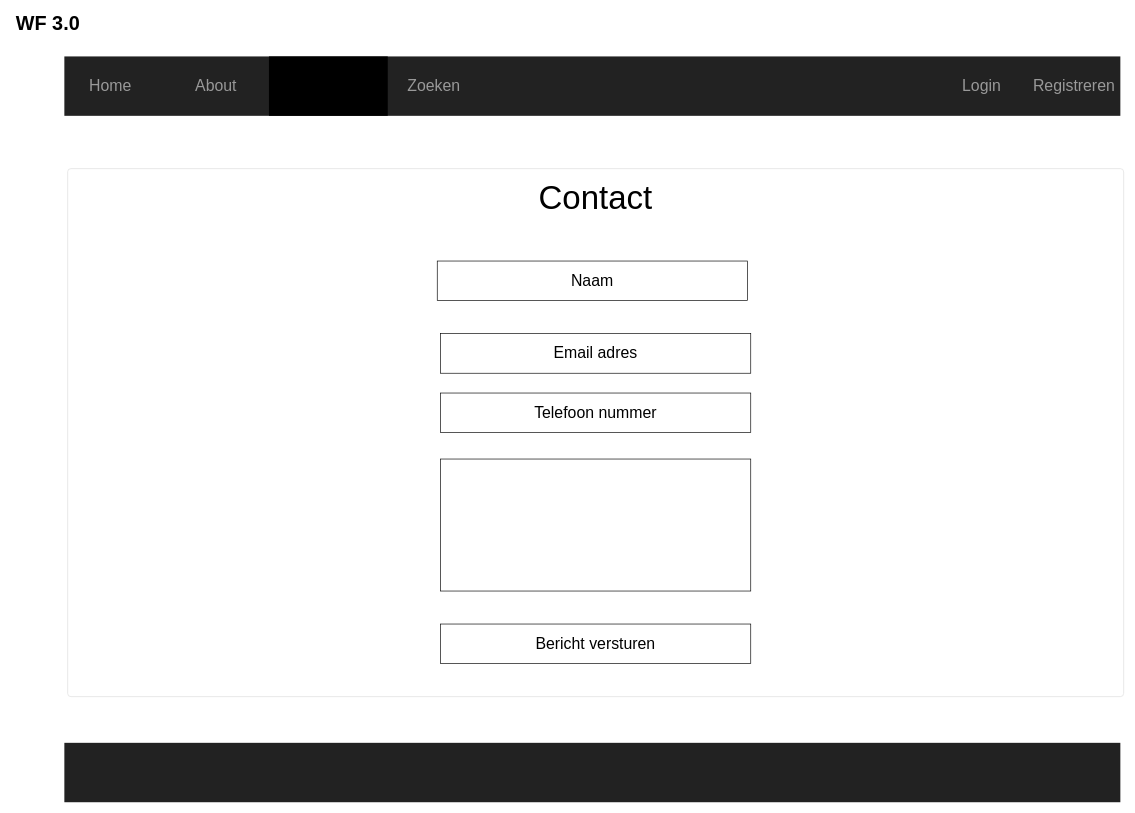
Image size: 1135x813. Some labels were removed from this diagram. Each missing label, with the box of its shape:
Bericht: (440, 458, 751, 591)
Contact: (269, 56, 387, 116)
Footer tekst: (64, 742, 1120, 802)
